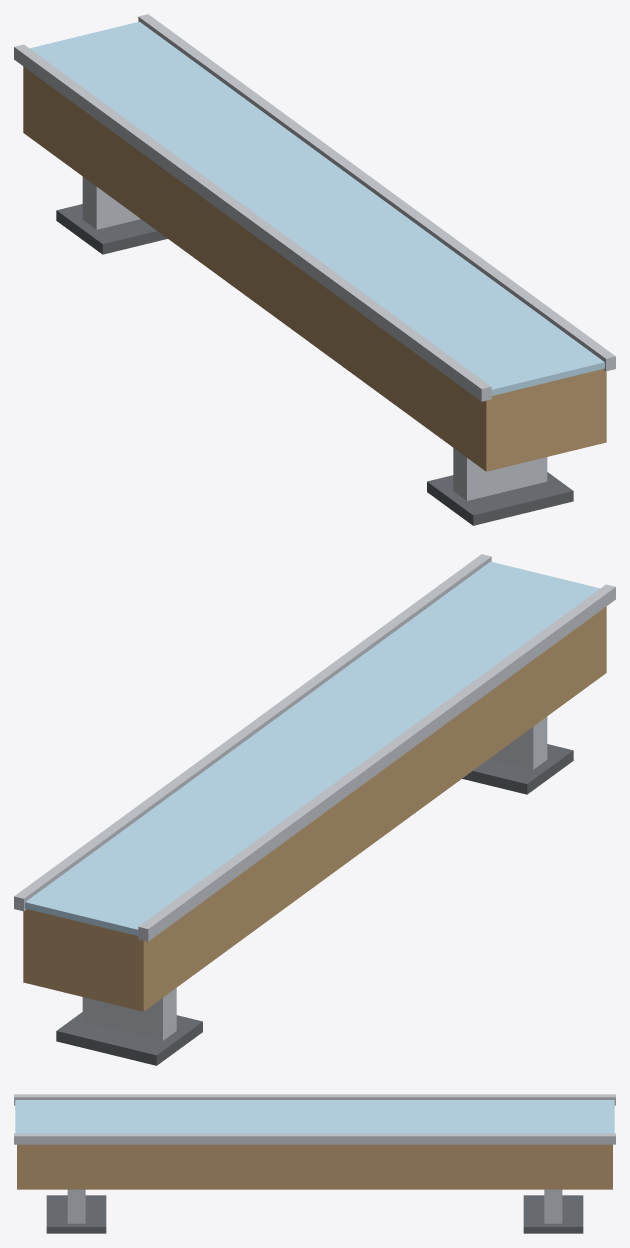
File: ski-resort-and-snow-park-box-feature-6c846fc3__25976.glb
3 renders of one model, top to bottom at view 1: azimuth 30°, elevation 25°; view 2: azimuth 150°, elevation 25°; view 3: azimuth 270°, elevation 25°, orthographic. The views are drawn at different scales.
Visible parts, largest first — view 1: box-feature; view 2: box-feature; view 3: box-feature.
Boxes of the visible parts, x1,y1,x2,y2 form: box-feature: [14, 14, 615, 525]; box-feature: [14, 554, 615, 1065]; box-feature: [14, 1094, 615, 1233].
Size of the model in its own units: 0.6697 by 0.7601 by 4.04.
